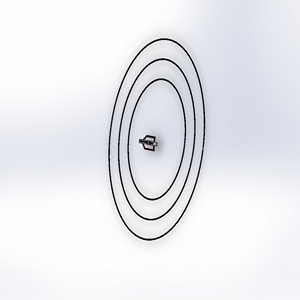circle: (99, 32, 210, 249)
submarine: (135, 131, 163, 160)
